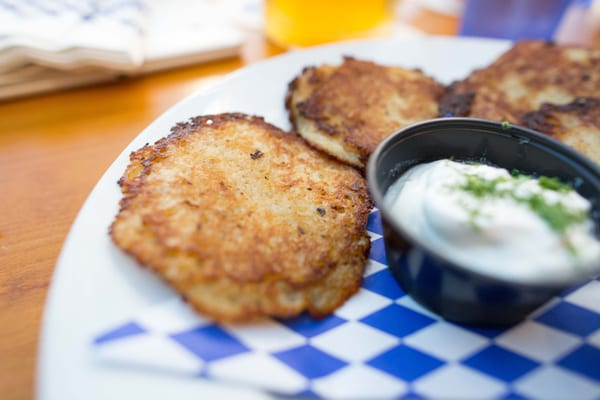pizza: (261, 0, 403, 52)
soup: (109, 112, 374, 323), (285, 56, 449, 170)
sushi: (364, 118, 600, 328)
